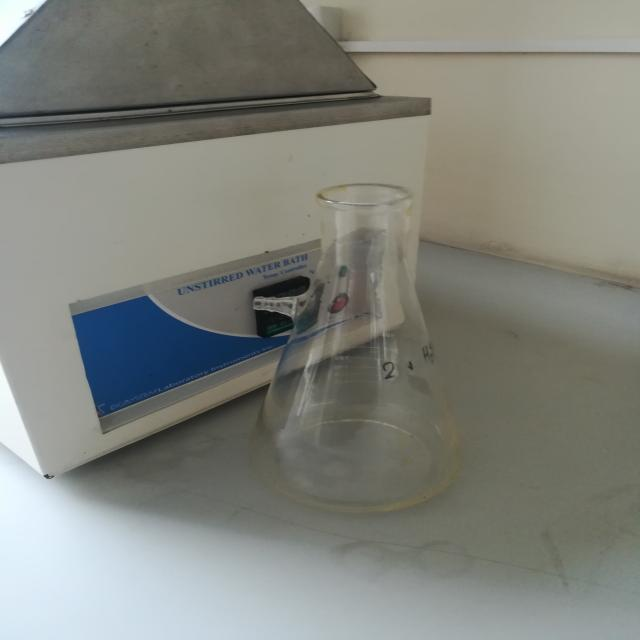Conical_Flask: (230, 150, 497, 534)
